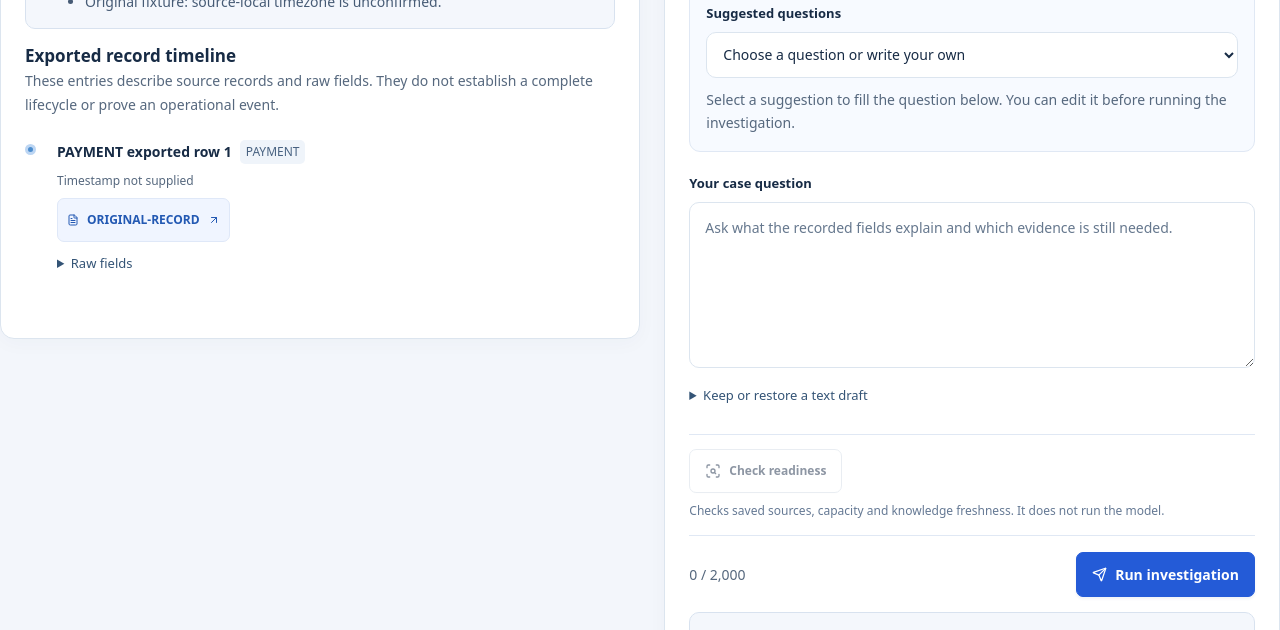
Test: case investigation workbench › handles unknown polling results without claiming a successful answer
The width and height of the screenshot is (1280, 630).
(page scrolled)
Replace the text in the text box labelled "Your case question" with "What does the original fixture establish?" at x=972, y=285, box x1=689 y1=202 x2=1255 y2=368
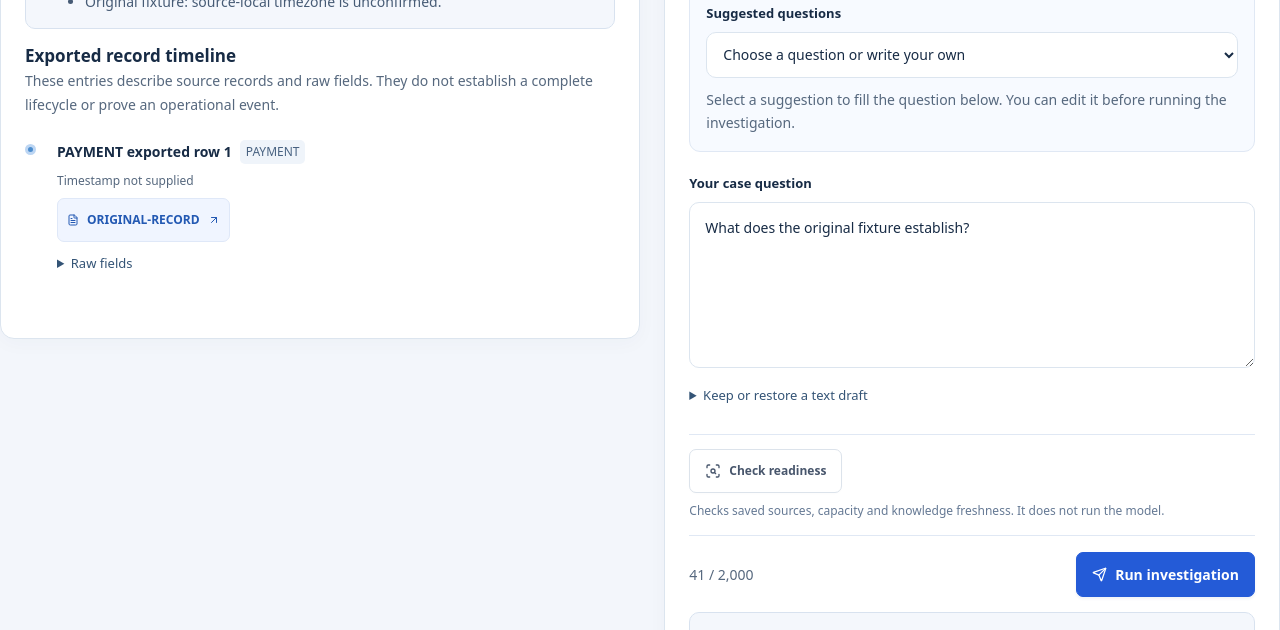
Click the button "Run investigation" at x=1166, y=575, box x1=1076 y1=552 x2=1255 y2=597
Wait 10000 ms
(page scrolled)
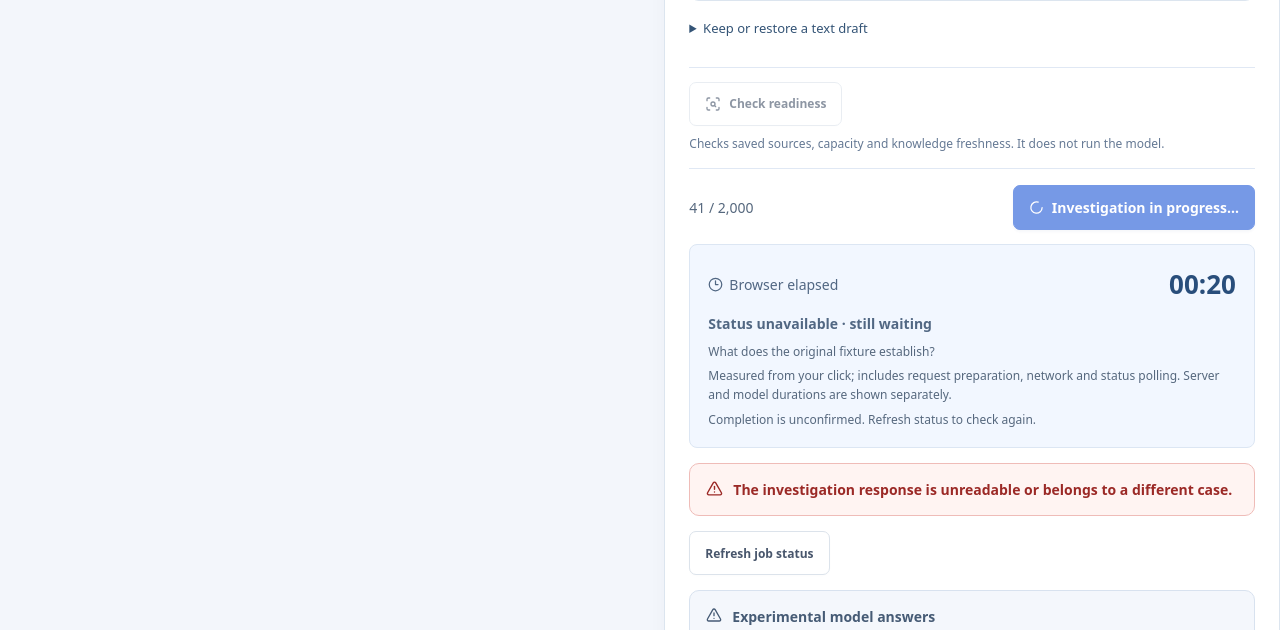
Check: the text "Status unavailable · still waiting" is shown, box x1=708 y1=314 x2=932 y2=333
Check: the text "00:20" is shown, box x1=1169 y1=263 x2=1236 y2=306
